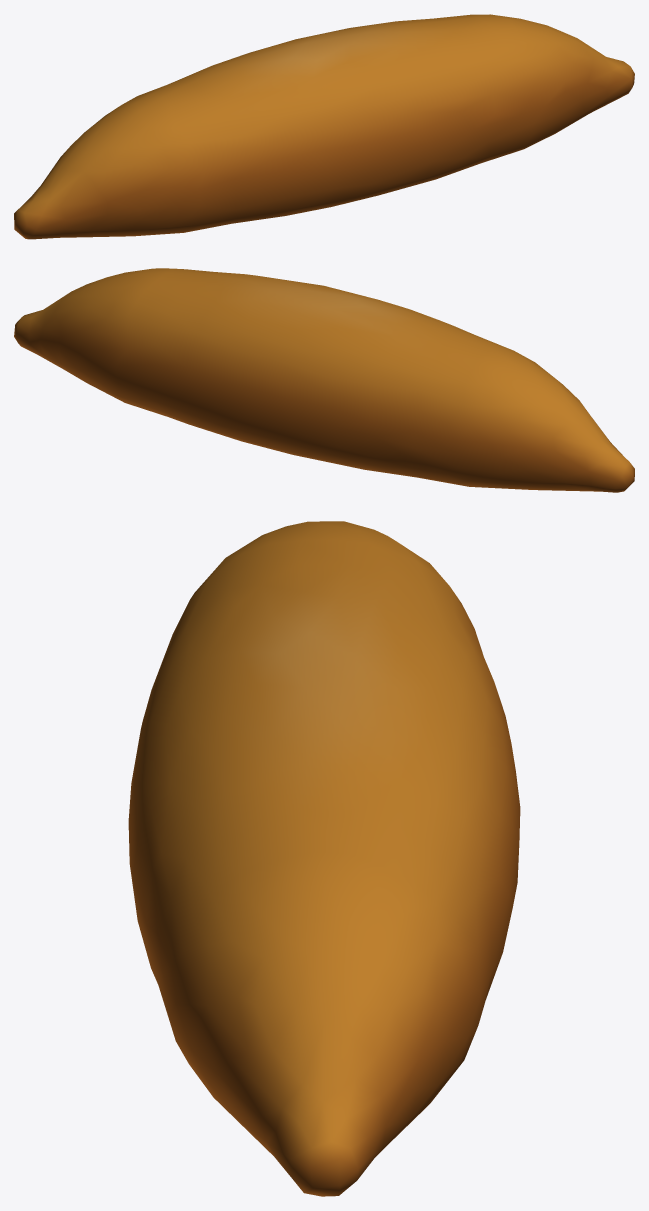
Rendered from banh_vang.glb.
The picture shows the model from 3 angles, top to bottom: view 1: azimuth 30°, elevation 25°; view 2: azimuth 150°, elevation 25°; view 3: azimuth 270°, elevation 25°; orthographic projection. The views are drawn at different scales.
Parts seen in each view (by area): view 1: banh_vang; view 2: banh_vang; view 3: banh_vang.
Part boxes in pixels (x1,y1,x2,y2): banh_vang: (14, 14, 634, 239); banh_vang: (14, 268, 634, 492); banh_vang: (128, 521, 520, 1196).
Size of the model in its own units: 0.3631 by 0.0748 by 0.1.
